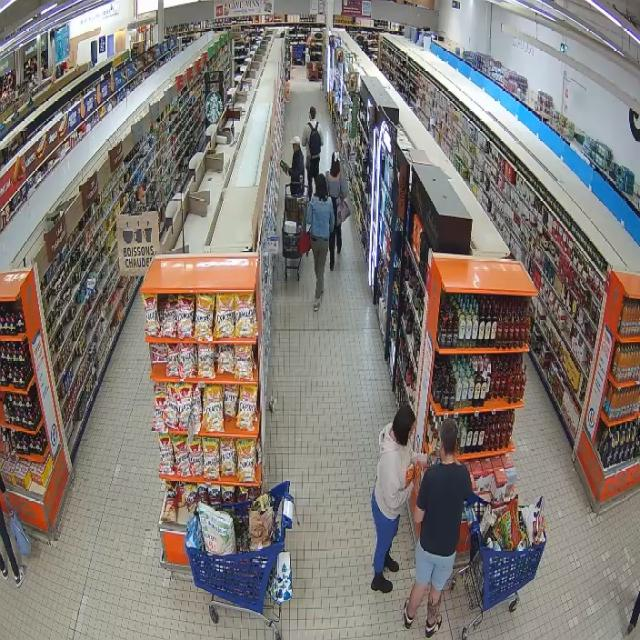article: (405, 460, 421, 488), (280, 160, 288, 175)
bags: (7, 501, 30, 556), (270, 552, 292, 604), (309, 123, 321, 156), (298, 231, 311, 256), (339, 201, 350, 224)
hands: (2, 491, 9, 500)
person: (403, 418, 472, 637), (371, 405, 427, 593), (306, 175, 334, 311), (327, 154, 348, 270), (0, 512, 25, 587), (302, 107, 322, 197), (288, 136, 304, 196)
